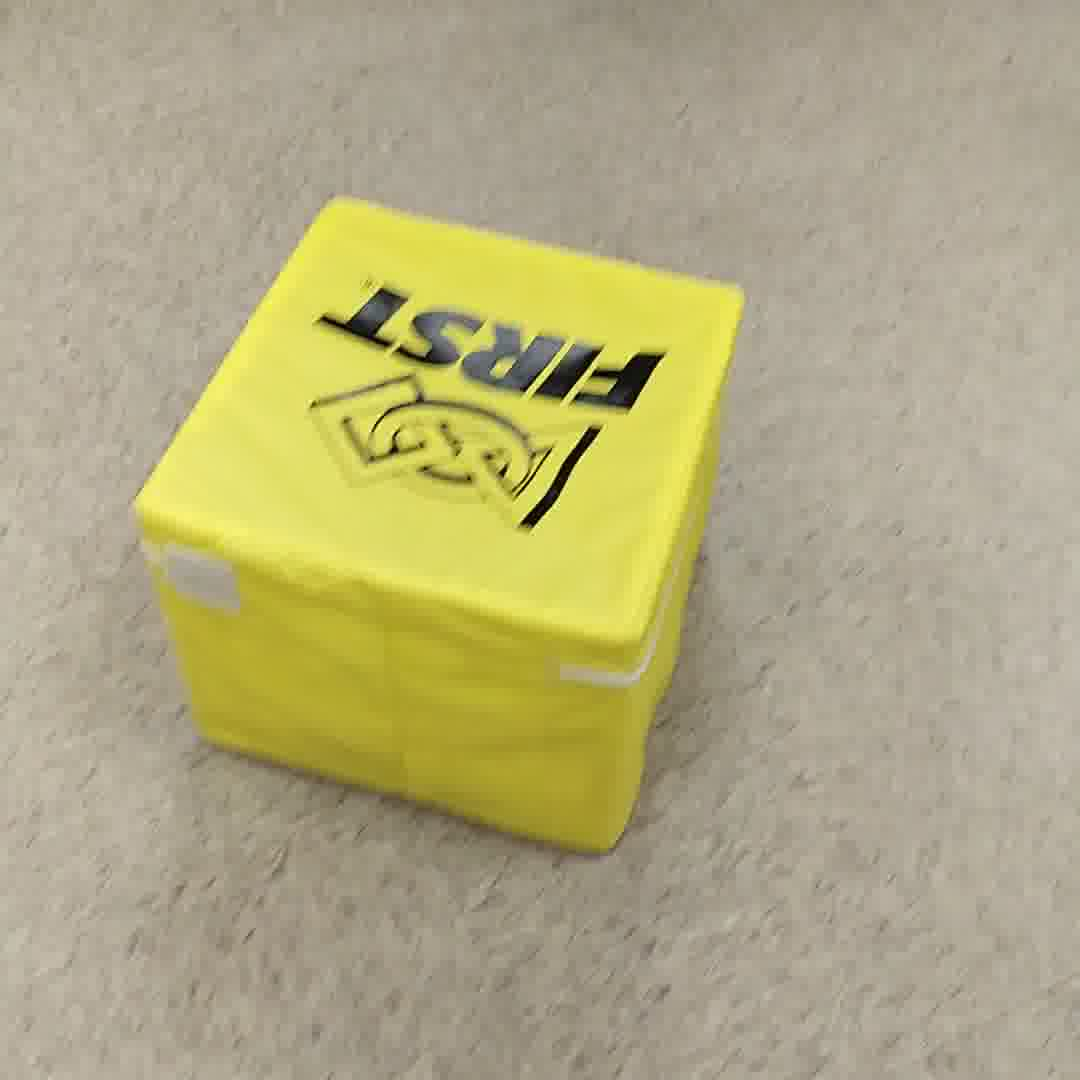box: (137, 172, 759, 867)
